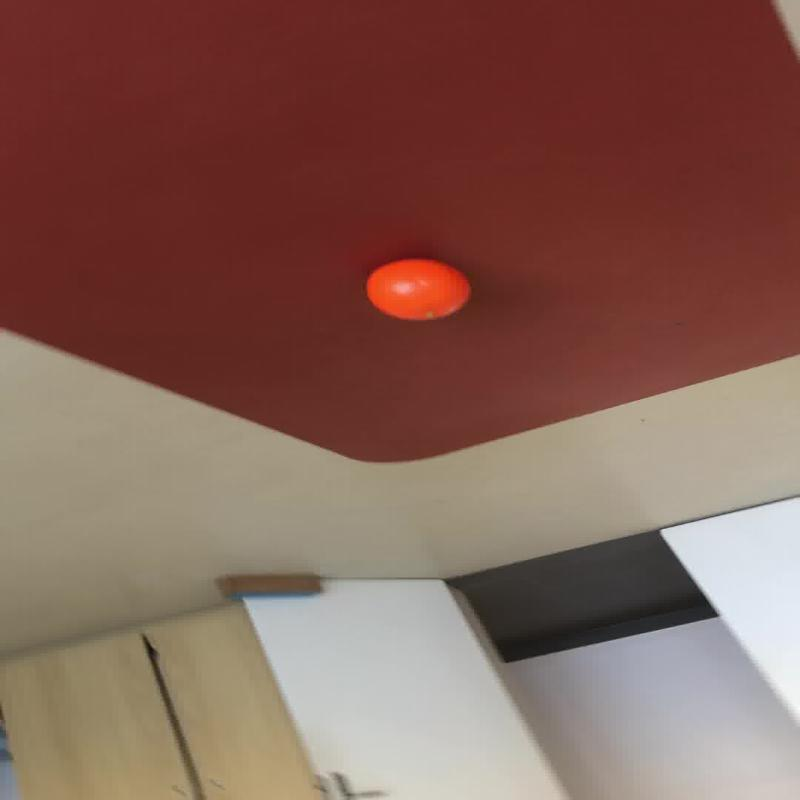orange: (364, 257, 470, 321)
